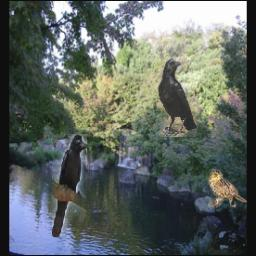Crow: (52, 134, 87, 237), (158, 60, 197, 138)
Sparrow: (208, 170, 247, 208)
